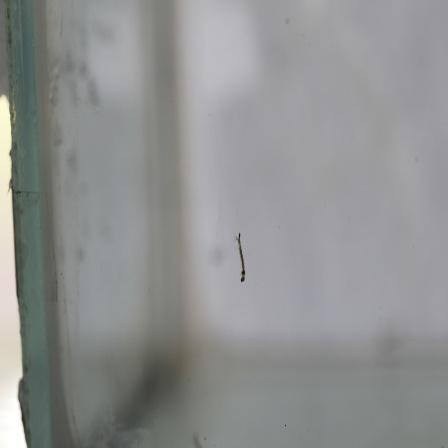Jentik-Nyamuk: (228, 229, 253, 288)
